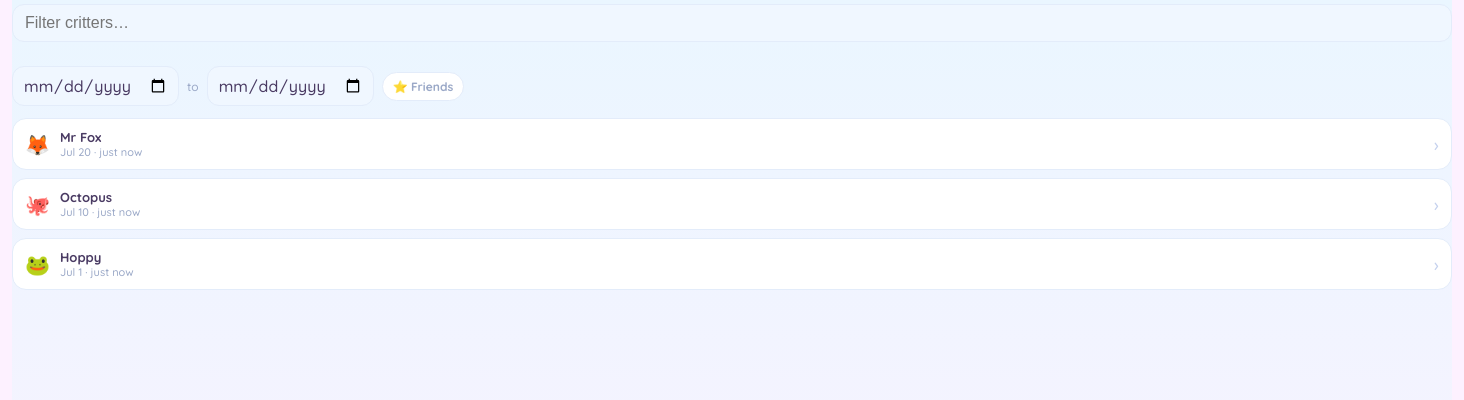
text filter › composes with the date range and shows the no-match message
The image size is (1464, 400).
Step 1. Type "2026-07-15" into the date field named "From" → point(96, 86), box [12,66,179,106]
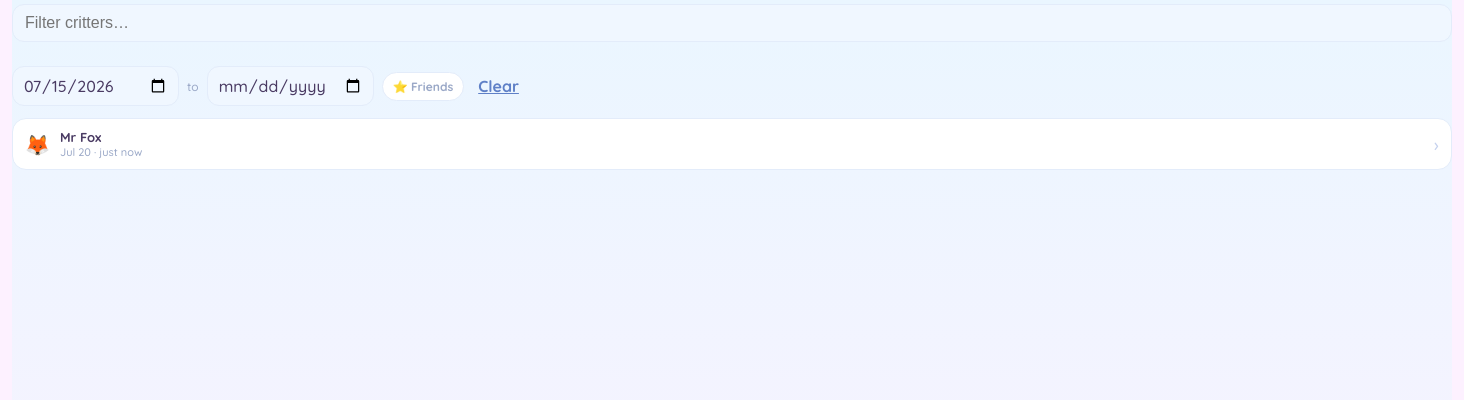
Step 2. Type "hoppy" into the search field labelled "Filter critters" → point(732, 23), box [12,4,1452,42]
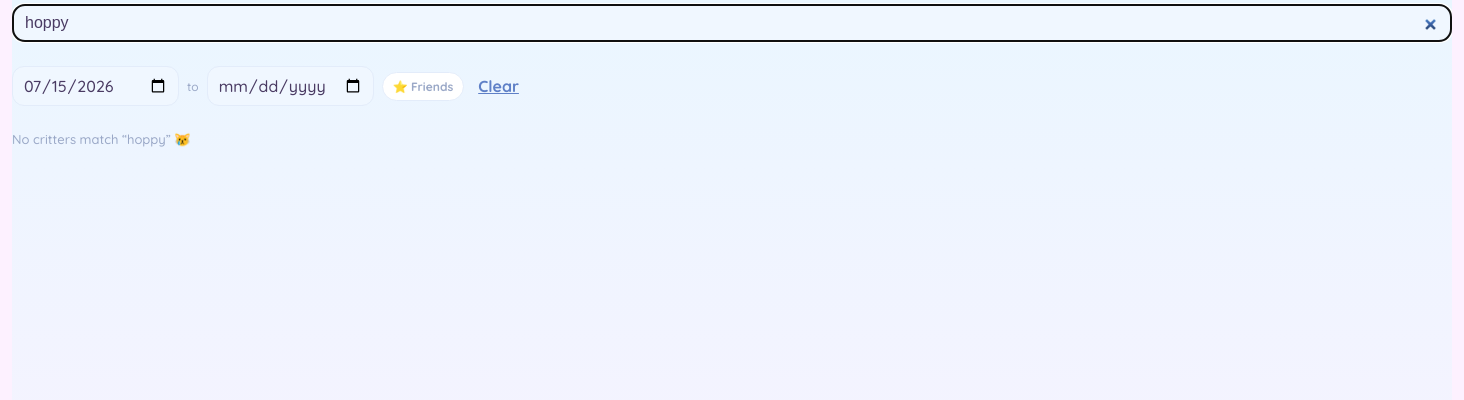
Expected: the text "No critters match “hoppy” 😿" is shown, [12,131,191,147]
